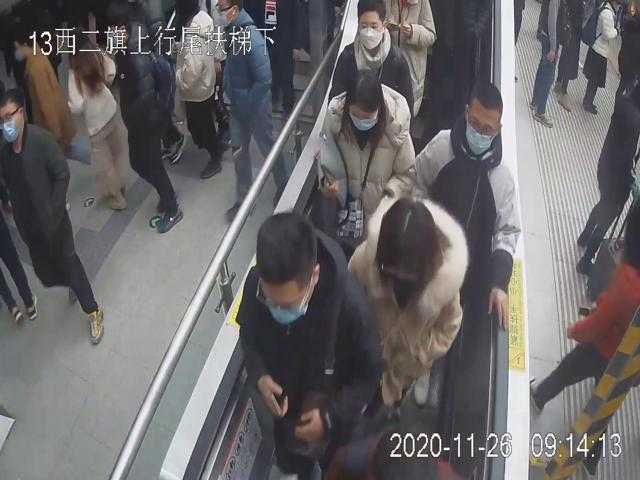person: (237, 210, 382, 480), (344, 194, 468, 418), (0, 92, 106, 349), (414, 80, 520, 331), (316, 66, 415, 248), (327, 0, 416, 121)
